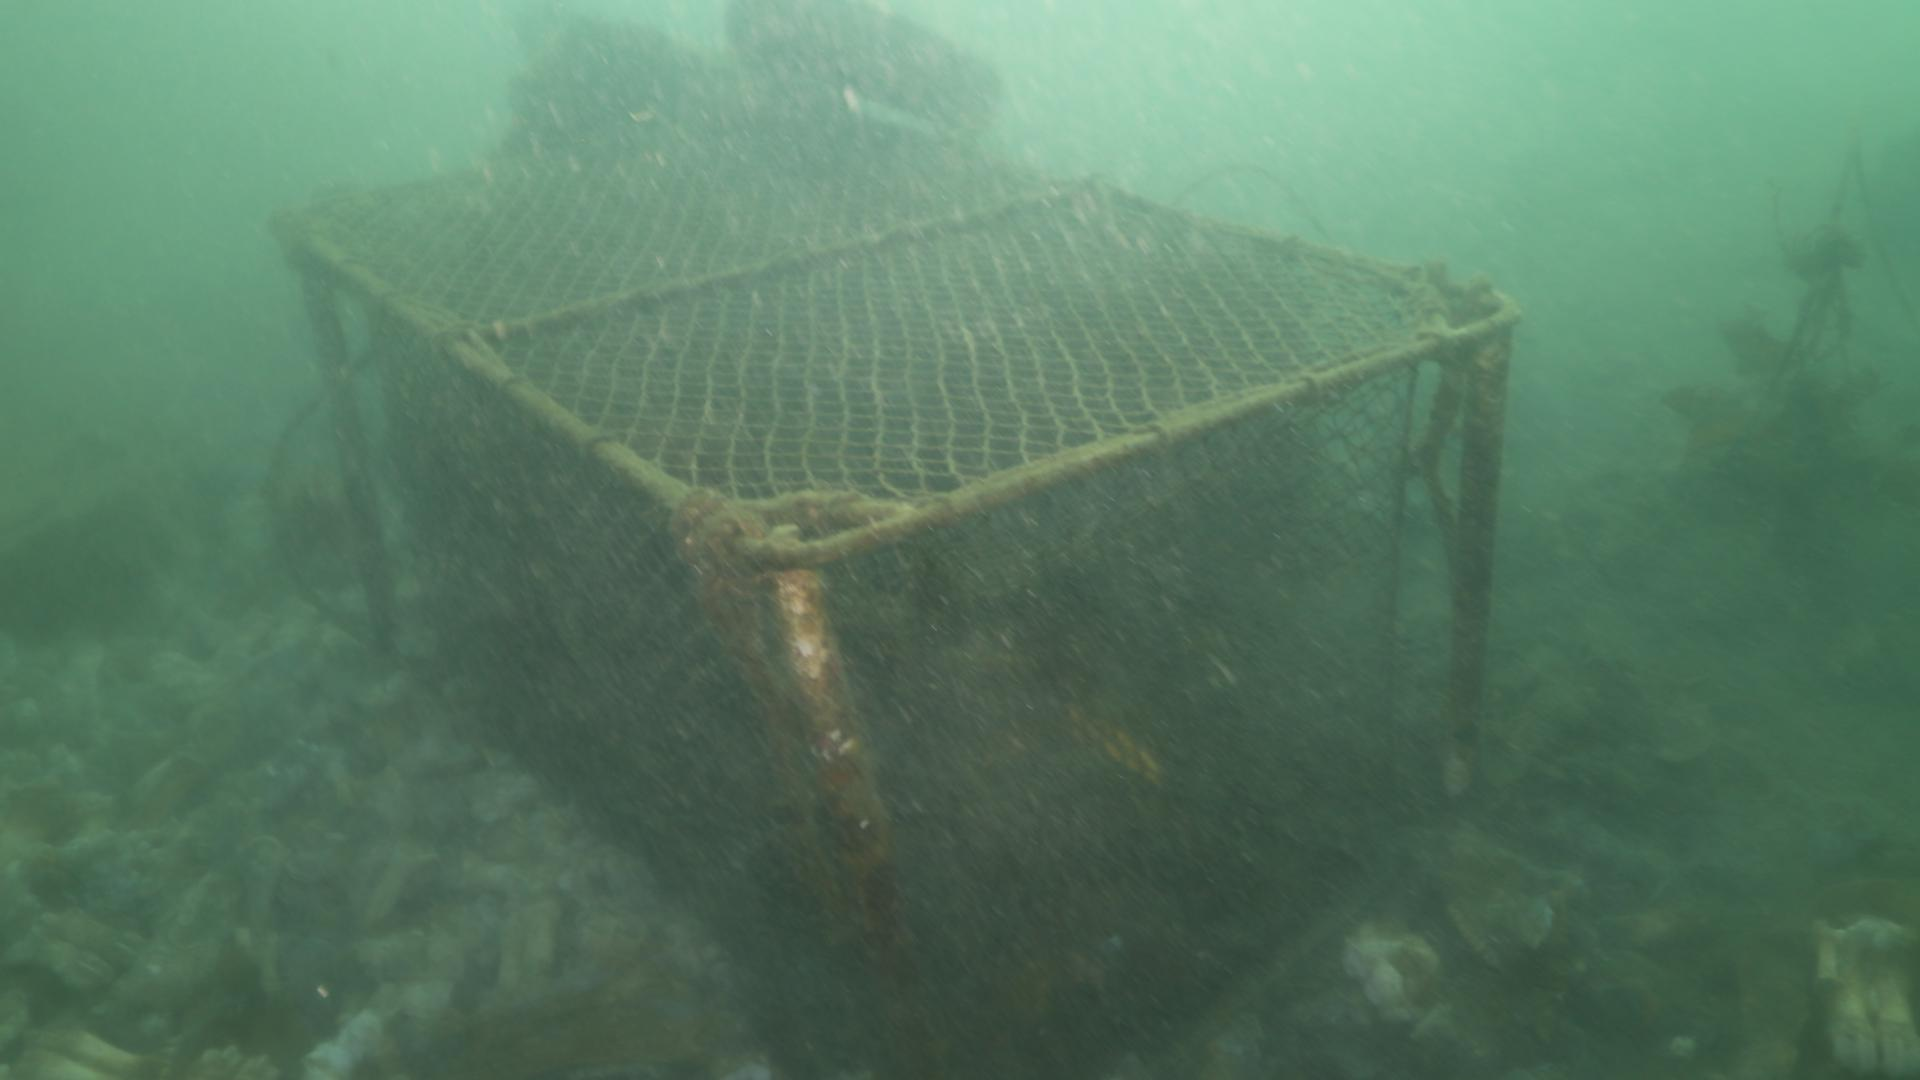rectangular fish trap: (265, 111, 1523, 1080)
